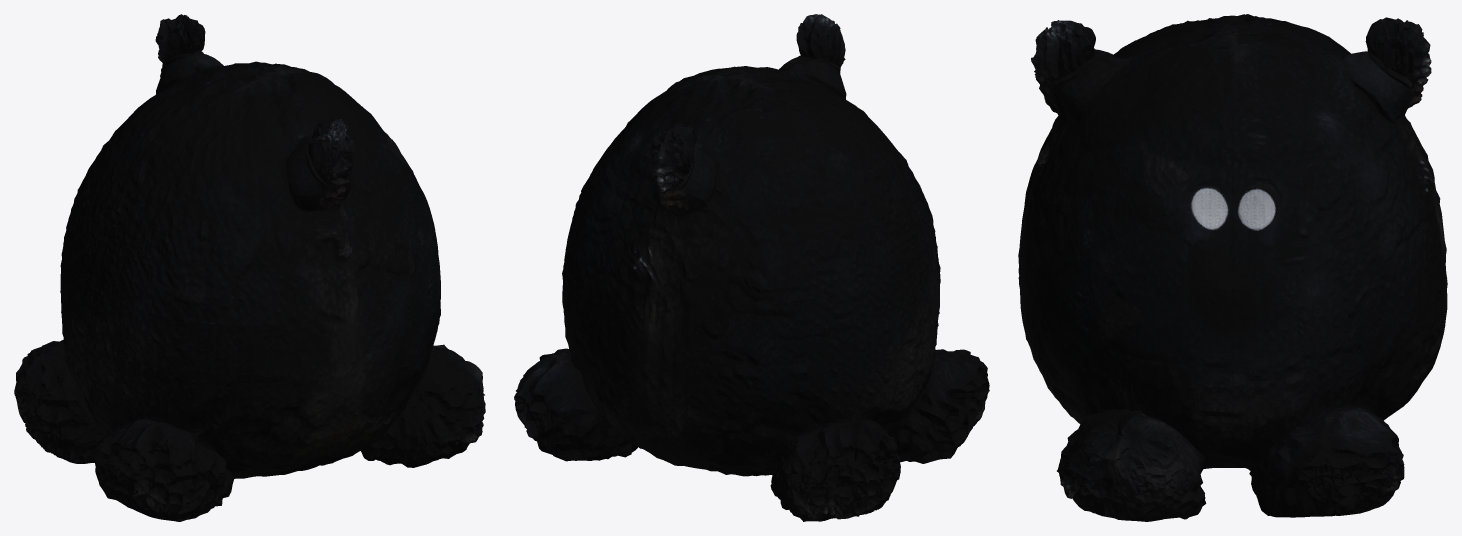
Rendered from Munieco.glb.
3 views of the same model, side by side, from view 1: azimuth 30°, elevation 25°; view 2: azimuth 150°, elevation 25°; view 3: azimuth 270°, elevation 25° (orthographic). The views are drawn at different scales.
Visible parts, largest first — view 1: world; view 2: world; view 3: world.
Boxes of the visible parts, x1,y1,x2,y2 form: world: (14,14,485,521); world: (514,14,989,521); world: (1018,14,1447,521).
Size of the model in its own units: 0.9997 by 0.9976 by 0.9089.
Materials: 1 (1 with a texture image).
